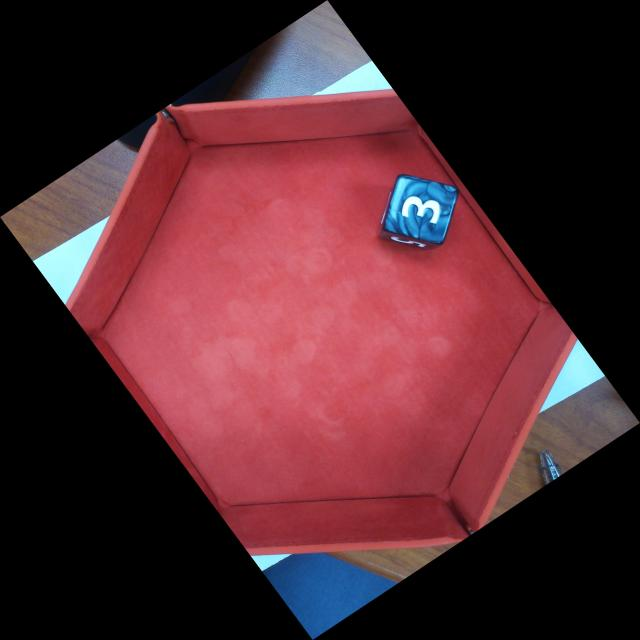dice: (381, 174, 463, 245)
